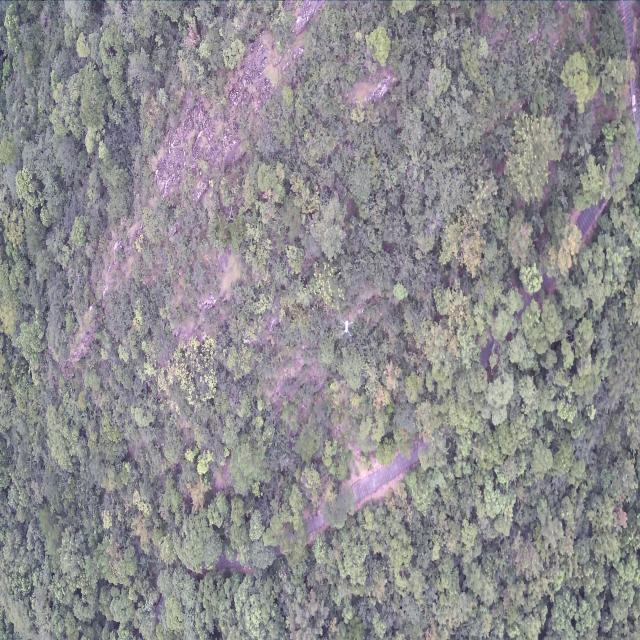UAV: (340, 319, 352, 337)
